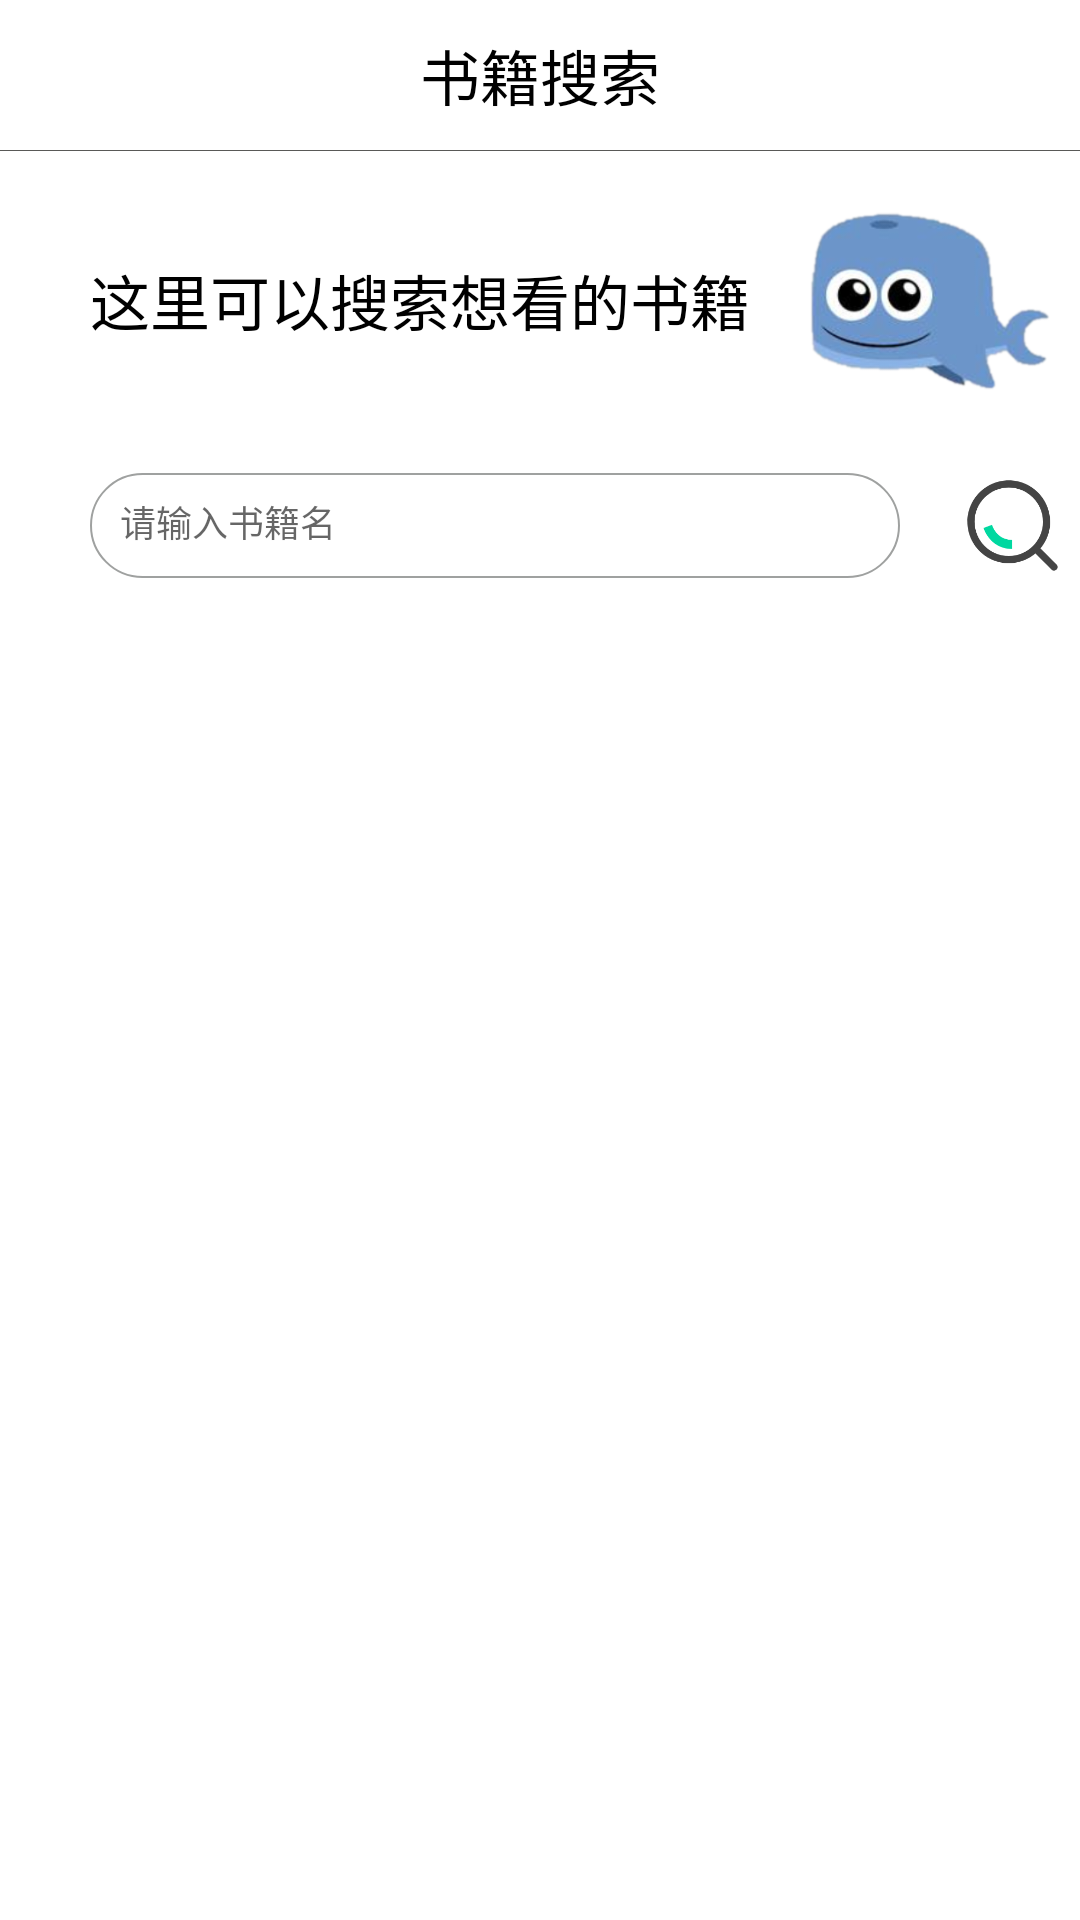

Named icons in this screenshot (1080 × 1920) and their bounding boxes, (x1, y1, x2, y2):
find: (967, 480, 1058, 571)
jinyu: (811, 214, 1049, 389)
